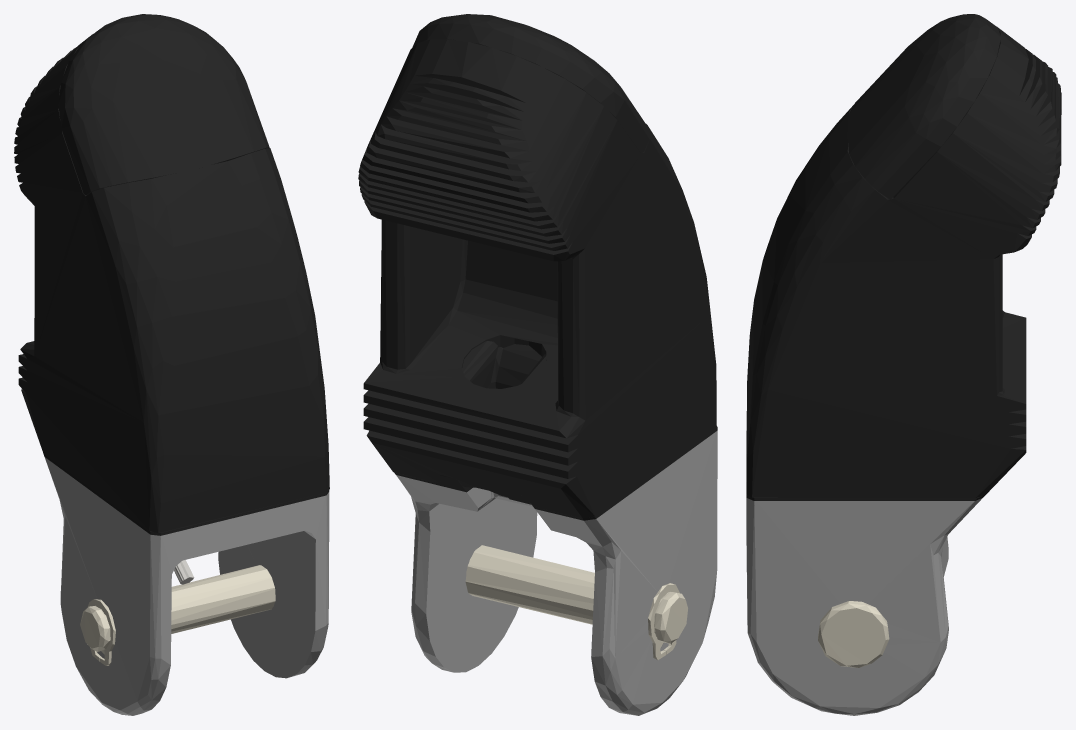
File: rf_distal.dae
3 renders of one model, left to right at view 1: azimuth 30°, elevation 25°; view 2: azimuth 150°, elevation 25°; view 3: azimuth 270°, elevation 25°, orthographic. The views are drawn at different scales.
Parts seen in each view (by area): view 1: SIH_right_006, SIH_right_048, SIH_right_047, SIH_right_045; view 2: SIH_right_006, SIH_right_048, SIH_right_045, SIH_right_047; view 3: SIH_right_006, SIH_right_048, SIH_right_047, SIH_right_045.
Part boxes in pixels (x1=…): SIH_right_006: x1=14, y1=34, x2=329, y2=535; SIH_right_048: x1=44, y1=457, x2=329, y2=715; SIH_right_047: x1=58, y1=14, x2=269, y2=195; SIH_right_045: x1=80, y1=565, x2=275, y2=665; SIH_right_006: x1=358, y1=39, x2=717, y2=520; SIH_right_048: x1=396, y1=430, x2=717, y2=715; SIH_right_045: x1=465, y1=545, x2=687, y2=659; SIH_right_047: x1=412, y1=14, x2=649, y2=153; SIH_right_006: x1=746, y1=27, x2=1061, y2=500; SIH_right_048: x1=746, y1=431, x2=982, y2=715; SIH_right_047: x1=847, y1=14, x2=1000, y2=199; SIH_right_045: x1=818, y1=601, x2=889, y2=667.
Size of the model in its own units: 20.02 by 26.46 by 60.07.
